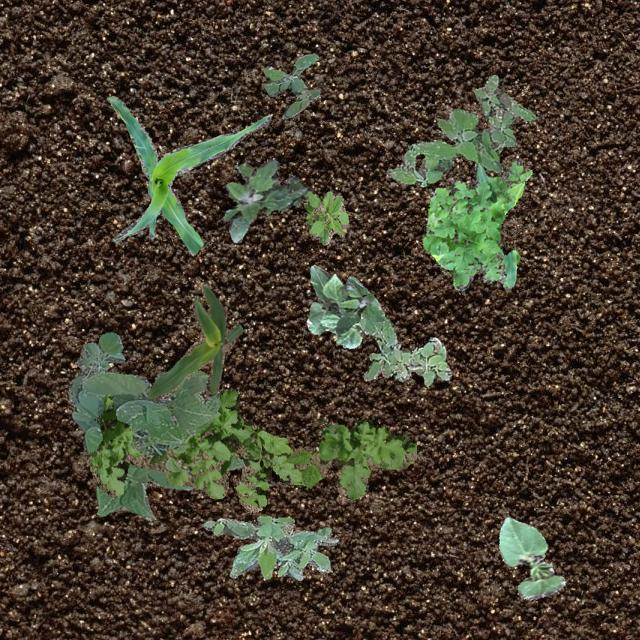crop: (106, 94, 270, 254), (70, 369, 242, 518), (148, 282, 242, 398), (305, 264, 383, 348), (498, 516, 564, 598)
weed: (86, 388, 416, 512), (386, 74, 534, 185), (422, 158, 530, 290), (202, 514, 338, 580), (222, 158, 312, 242), (358, 314, 422, 380), (66, 332, 124, 404), (262, 52, 320, 118), (390, 336, 450, 386), (334, 276, 382, 334), (304, 190, 348, 244)
